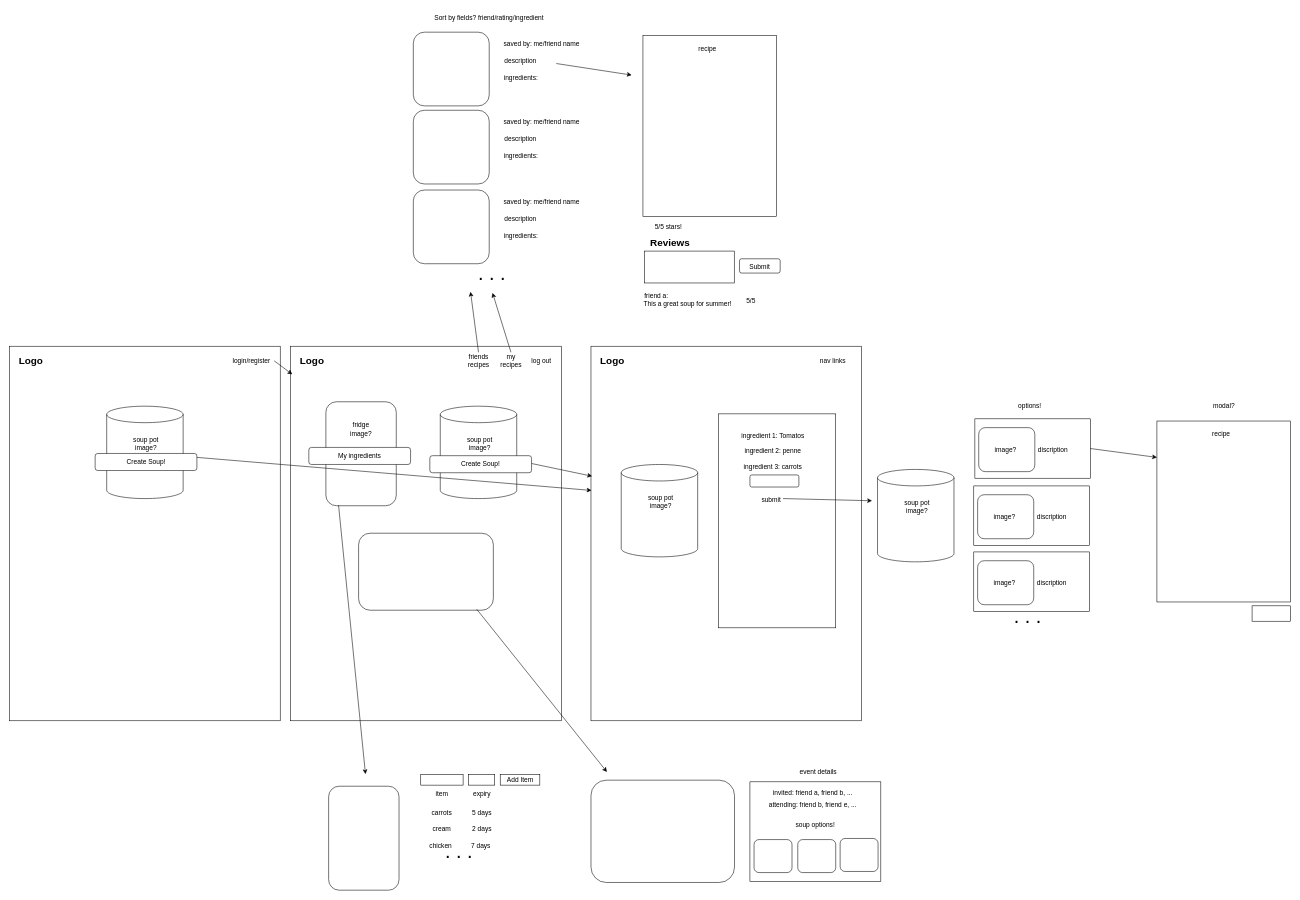
Some shapes in this 1300 by 900 pixel diagram are drawn without their labels. Each missing label, with the centre of its shape:
Calendar: the point at 662,831
calendar?: the point at 425,571
insert text...: the point at 689,267
New ingredient: the point at 774,480
open fridge image?: the point at 363,838
Save: the point at 1271,613
